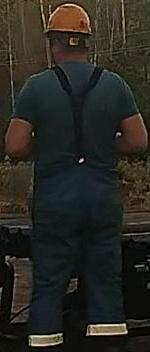helmet: (43, 2, 92, 36)
